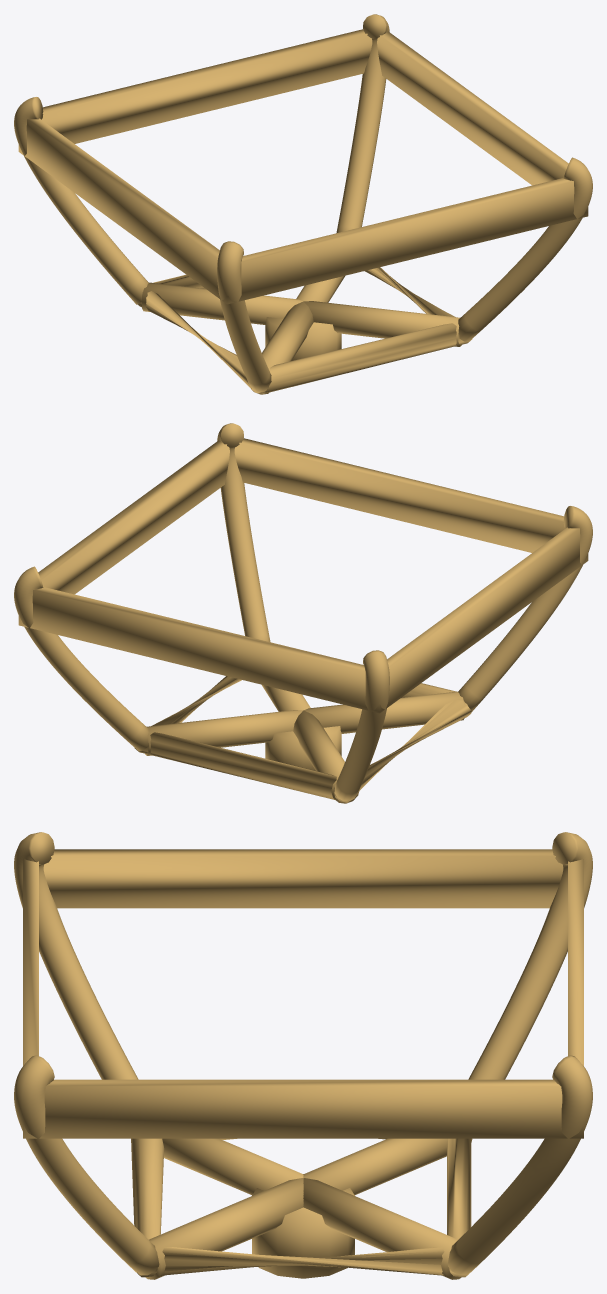
File: stuller-lg-500114738-bezel.glb
The picture shows the model from 3 angles, top to bottom: view 1: azimuth 30°, elevation 25°; view 2: azimuth 150°, elevation 25°; view 3: azimuth 270°, elevation 25°; orthographic projection. The views are drawn at different scales.
Parts seen in each view (by area): view 1: Metal.127, Metal.122, Metal.131, Metal.128, Metal.129, Metal.130, Metal.123, Metal.125, Metal.126, Metal.121, Metal.124; view 2: Metal.127, Metal.122, Metal.128, Metal.131, Metal.130, Metal.129, Metal.124, Metal.126, Metal.125, Metal.121, Metal.123; view 3: Metal.127, Metal.122, Metal.128, Metal.131, Metal.129, Metal.130, Metal.124, Metal.123, Metal.125, Metal.126, Metal.121.
Boxes of the visible parts, bbox=[...] form: Metal.127: bbox=[18, 29, 588, 304]; Metal.122: bbox=[138, 267, 472, 393]; Metal.131: bbox=[458, 157, 592, 342]; Metal.128: bbox=[336, 14, 389, 233]; Metal.129: bbox=[14, 97, 148, 304]; Metal.130: bbox=[217, 241, 271, 392]; Metal.123: bbox=[304, 301, 461, 346]; Metal.125: bbox=[141, 282, 302, 324]; Metal.126: bbox=[251, 301, 313, 394]; Metal.121: bbox=[265, 302, 341, 360]; Metal.124: bbox=[296, 276, 344, 302]; Metal.127: bbox=[18, 438, 588, 713]; Metal.122: bbox=[134, 676, 471, 802]; Metal.128: bbox=[14, 566, 148, 751]; Metal.131: bbox=[217, 423, 270, 642]; Metal.130: bbox=[458, 506, 592, 712]; Metal.129: bbox=[334, 650, 389, 801]; Metal.124: bbox=[145, 710, 302, 755]; Metal.126: bbox=[304, 691, 464, 733]; Metal.125: bbox=[293, 710, 359, 803]; Metal.121: bbox=[265, 711, 341, 770]; Metal.123: bbox=[262, 685, 310, 711]; Metal.127: bbox=[23, 849, 583, 1138]; Metal.122: bbox=[131, 1138, 471, 1277]; Metal.128: bbox=[447, 1055, 592, 1275]; Metal.131: bbox=[14, 1055, 159, 1275]; Metal.129: bbox=[468, 832, 592, 1079]; Metal.130: bbox=[14, 832, 138, 1079]; Metal.124: bbox=[303, 1178, 461, 1279]; Metal.123: bbox=[145, 1178, 303, 1279]; Metal.125: bbox=[303, 1138, 472, 1194]; Metal.126: bbox=[162, 1138, 303, 1194]; Metal.121: bbox=[252, 1188, 354, 1278].
Bounding box in the file's own units: 6.75 × 4.02 × 6.75.
